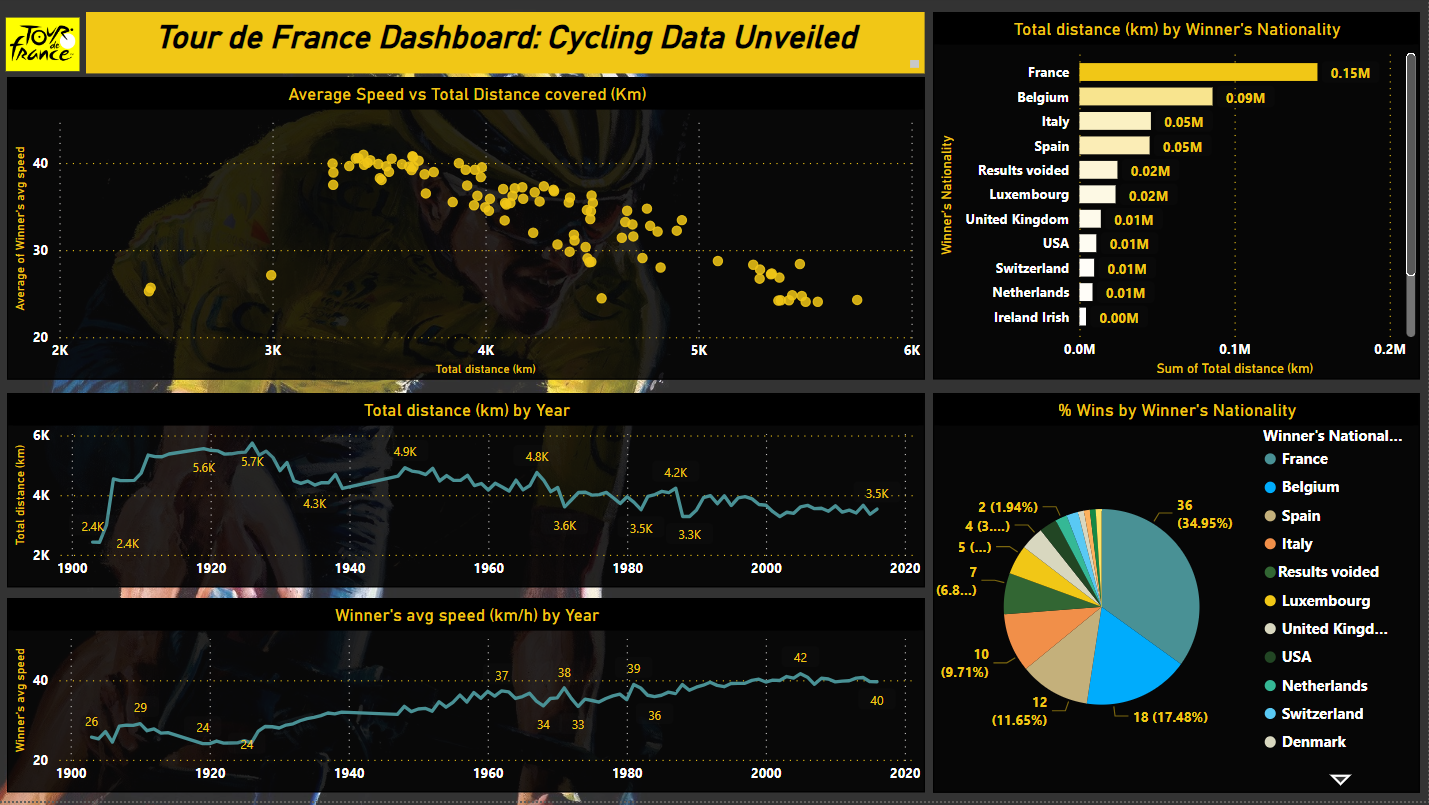

What the dashboard file says about the page in this screenshot:
{"tool":"powerbi","page":{"name":"Question 1,2,3 & 4","canvas":[1280,720],"ordinal":0},"visuals":[{"type":"scatterChart","title":"Average Speed vs Total Distance covered (Km)","fields":{"X":["Sheet1.Total distance (km)"],"Y":["Avg(Sheet1.Winner's avg speed)"]},"box":[8,71.6,822,271],"z":0},{"type":"lineChart","title":"Winner''s avg speed (km/h) by Year","fields":{"Category":["Sheet1.Year"],"Y":["Avg(Sheet1.Winner's avg speed)"]},"box":[8,538.4,822,173.5],"z":1000},{"type":"lineChart","fields":{"Category":["Sheet1.Year"],"Y":["Sum(Sheet1.Total distance (km))"]},"box":[8,354.2,822,173.5],"z":2000},{"type":"barChart","title":"Total distance (km) by Winner''s Nationality","fields":{"Category":["Sheet1.Winner's Nationality"],"Y":["Sum(Sheet1.Total distance (km))"]},"box":[837.2,13.4,435.6,329.1],"z":3000},{"type":"pieChart","fields":{"Category":["Sheet1.Winner's Nationality"],"Y":["CountNonNull(Sheet1.Winner's Nationality)"]},"box":[837.2,354.2,435.6,357.8],"z":4000},{"type":"image","box":[0,13.4,78.7,58.1],"z":6000},{"type":"textbox","title":"Tour de France Dashboard: Cycling Data Unveiled","box":[78.7,13.4,751.3,54.6],"z":7000}]}

Visuals, with their boxes in screenshot pixels (x1, y1, x2, y2), scaled from the page's 1280x720 canvas onto the 1429x805 screenshot:
"Average Speed vs Total Distance covered (Km)" scatterChart: box=[9, 80, 927, 383]
"Winner''s avg speed (km/h) by Year" lineChart: box=[9, 602, 927, 796]
lineChart - Sheet1.Year x Sum(Sheet1.Total distance (km)): box=[9, 396, 927, 590]
"Total distance (km) by Winner''s Nationality" barChart: box=[935, 15, 1421, 383]
pieChart - Sheet1.Winner's Nationality x CountNonNull(Sheet1.Winner's Nationality): box=[935, 396, 1421, 796]
image: box=[0, 15, 88, 80]
"Tour de France Dashboard: Cycling Data Unveiled" textbox: box=[88, 15, 927, 76]
